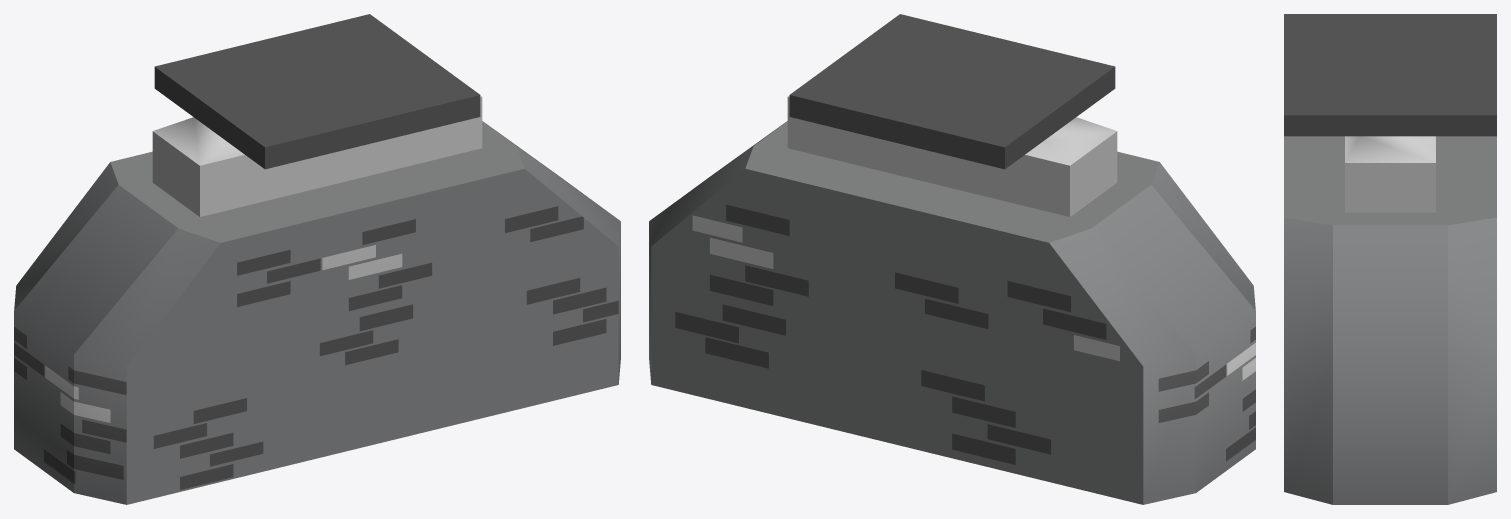
The model's file is Bridge3Beam2.fbx.
3 renders of one model, left to right at view 1: azimuth 30°, elevation 25°; view 2: azimuth 150°, elevation 25°; view 3: azimuth 270°, elevation 25°, orthographic. The views are drawn at different scales.
Visible parts, largest first — view 1: Bridge3Beam2; view 2: Bridge3Beam2; view 3: Bridge3Beam2.
Part boxes in pixels (x1,y1,x2,y2): Bridge3Beam2: (14, 14, 620, 504); Bridge3Beam2: (649, 14, 1255, 504); Bridge3Beam2: (1284, 14, 1496, 504).
Bounding box in the file's own units: 15.28 × 8.64 × 5.35.
